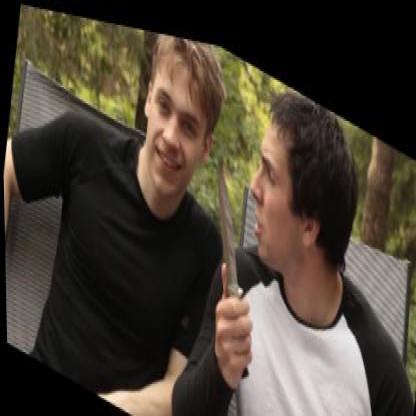knife: (188, 127, 276, 385)
